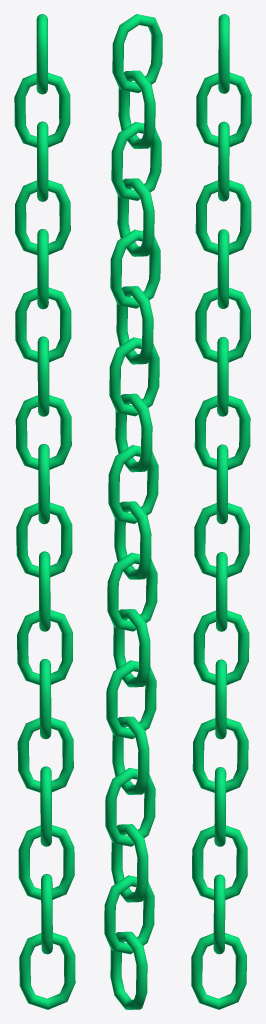
Rendered from Chain.fbx.
3 renders of one model, left to right at view 1: azimuth 90°, elevation 25°; view 2: azimuth 210°, elevation 25°; view 3: azimuth 270°, elevation 25°, orthographic.
Visible parts, largest first — view 1: Grizzly.002; view 2: Grizzly.002; view 3: Grizzly.002.
Boxes of the visible parts, <box> form: Grizzly.002: <box>14,14,75,1009</box>; Grizzly.002: <box>104,14,162,1009</box>; Grizzly.002: <box>191,14,251,1009</box>.
Bounding box in the file's own units: 4.97 × 86.91 × 4.82.
